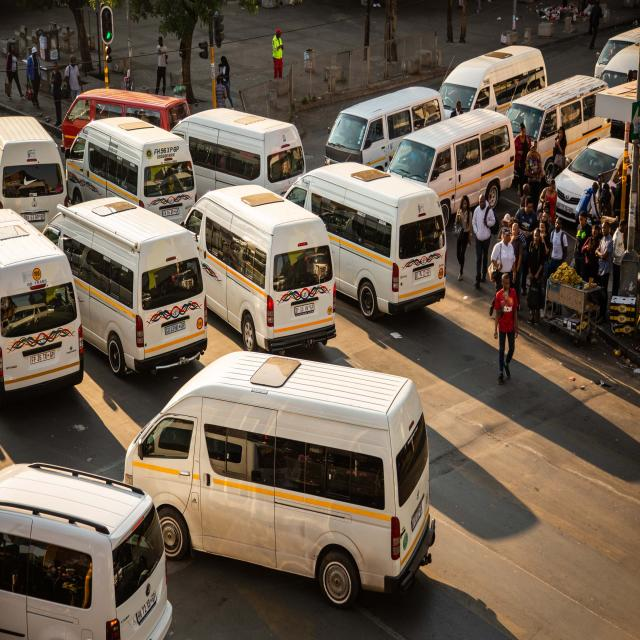MiniBus taxi: (122, 344, 440, 602), (83, 219, 212, 377), (244, 216, 346, 356), (0, 235, 81, 410), (369, 180, 450, 329)
Passenger Car: (1, 458, 172, 640)
Pedestrians: (496, 273, 520, 384), (472, 188, 498, 290), (456, 192, 472, 286)
